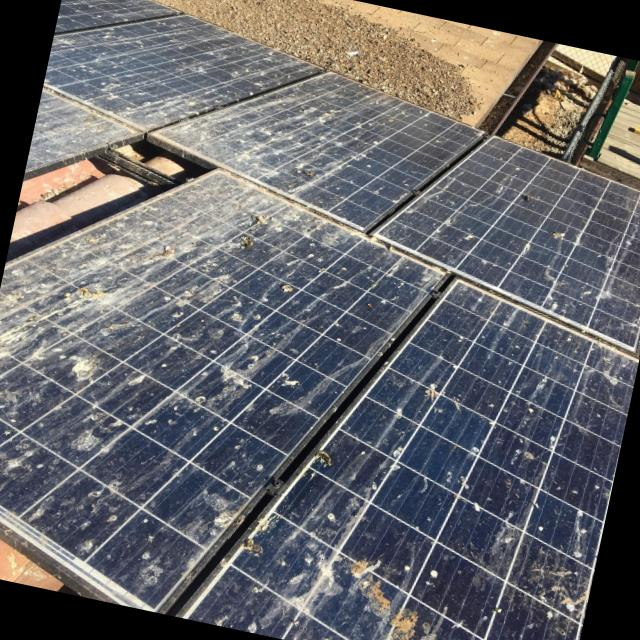faulty: (28, 0, 640, 347), (0, 165, 453, 614), (176, 285, 634, 640)
